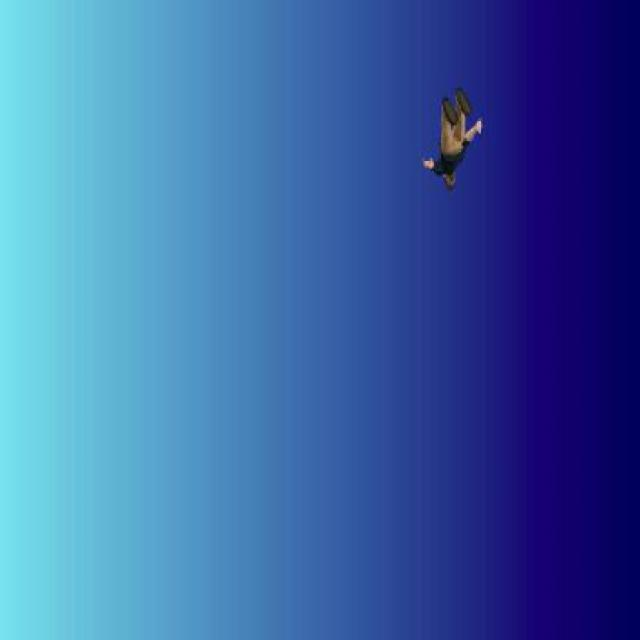Person: (418, 83, 488, 192)
